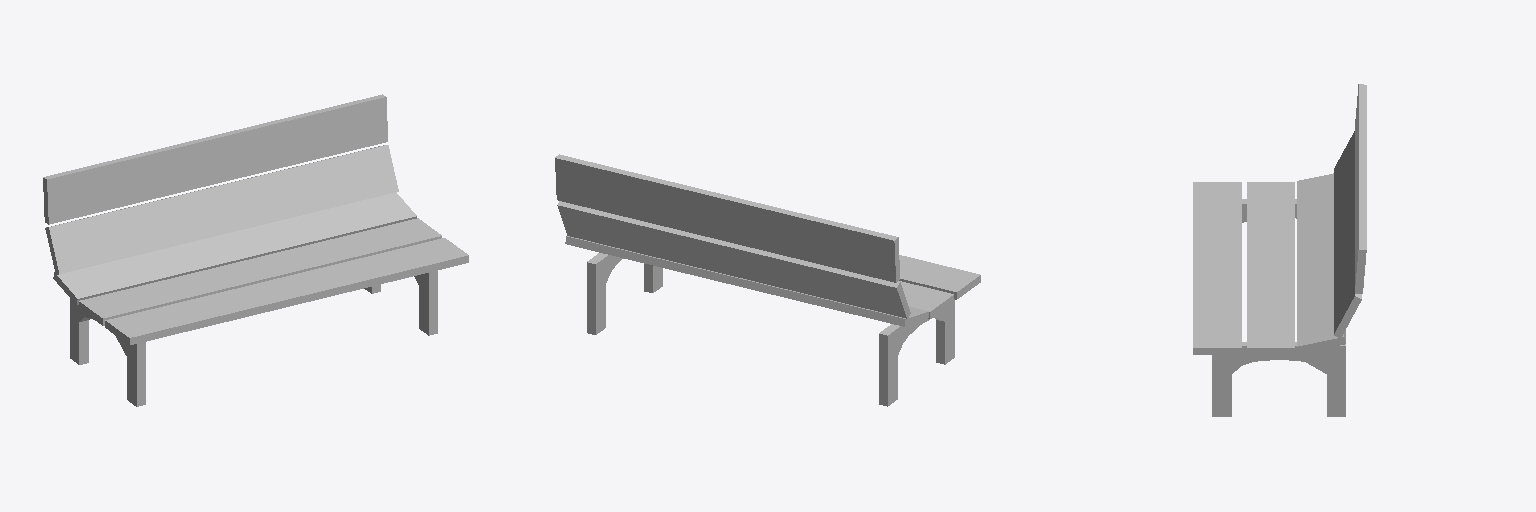
The model's file is bench.obj.
The picture shows the model from 3 angles: view 1: azimuth 30°, elevation 25°; view 2: azimuth 150°, elevation 25°; view 3: azimuth 270°, elevation 25°; orthographic projection.
Parts seen in each view (by area): view 1: bench; view 2: bench; view 3: bench.
Boxes of the visible parts, <box> form: bench: <box>43,94,468,406</box>; bench: <box>555,154,980,406</box>; bench: <box>1193,84,1366,416</box>.
Size of the model in its own units: 3.17 by 1.59 by 1.4.